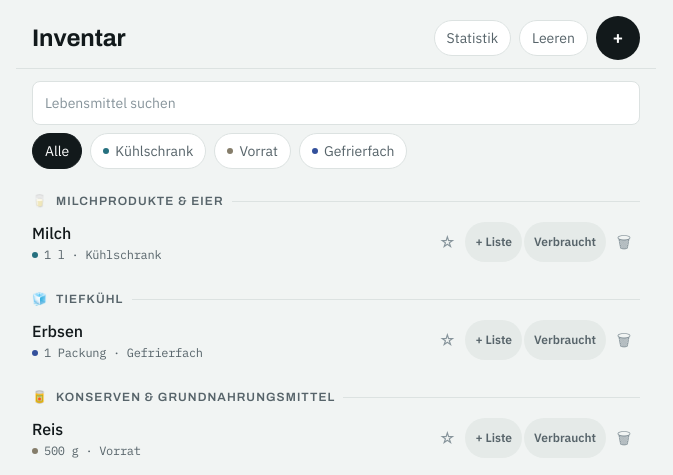
Scenario: Inventory › searching and filtering › combines search and location filter
Click the button "Kühlschrank". click: [148, 151]
box: [90,133,206,169]
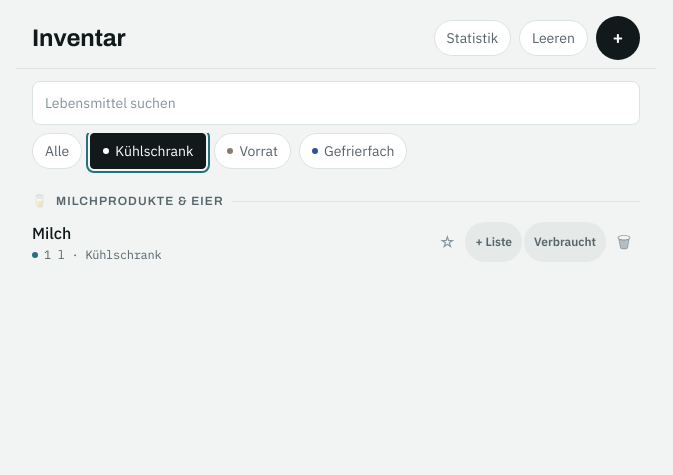
Type "Reis" into the search field labelled "Lebensmittel suchen". click: [336, 103]
box: [32,81,640,125]
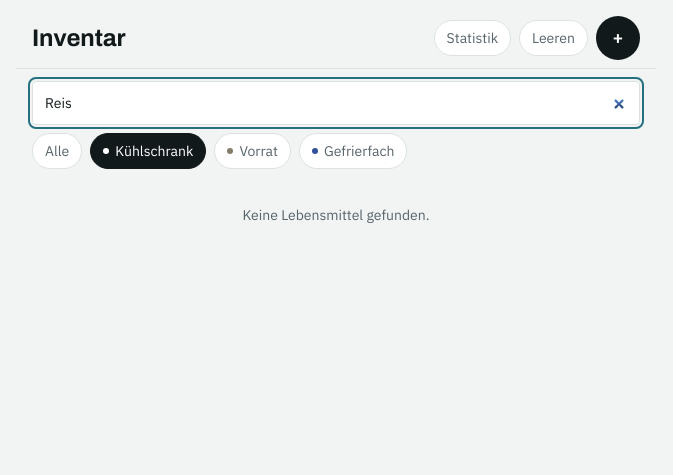
Now the text "Keine Lebensmittel gefunden." is shown, box [242,206,430,224]
